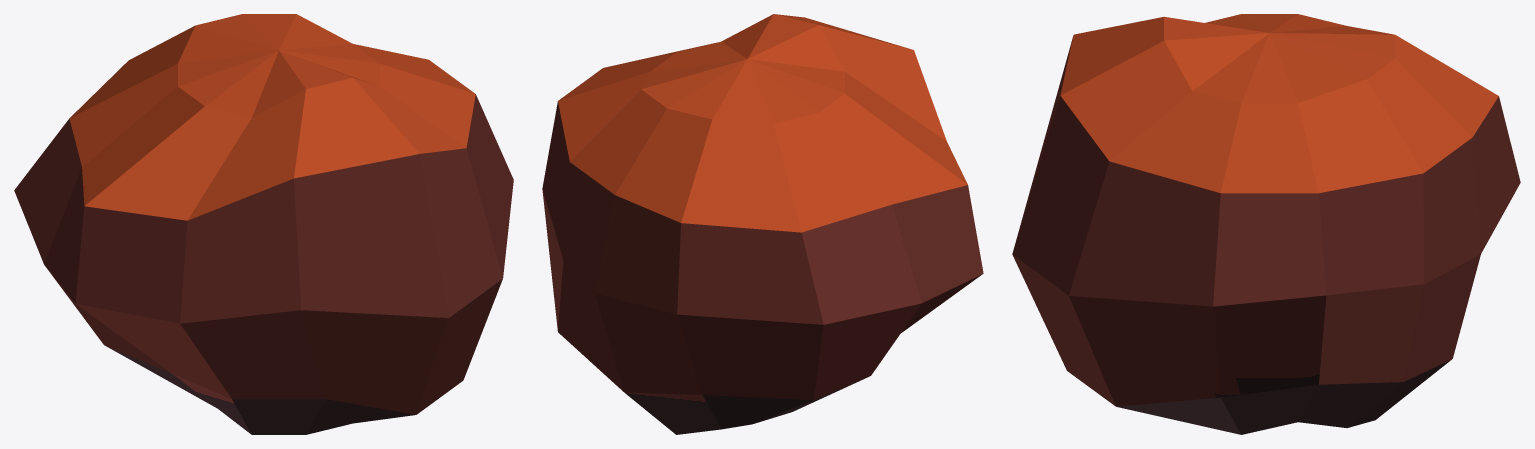
Rendered from Asteroid33.gltf.
The picture shows the model from 3 angles, left to right: view 1: azimuth 30°, elevation 25°; view 2: azimuth 150°, elevation 25°; view 3: azimuth 270°, elevation 25°; orthographic projection. The views are drawn at different scales.
Visible parts, largest first — view 1: sphere; view 2: sphere; view 3: sphere.
Part boxes in pixels (bbox=[...]): sphere: bbox=[14, 14, 513, 434]; sphere: bbox=[542, 14, 983, 434]; sphere: bbox=[1012, 14, 1520, 434].
Size of the model in its own units: 1.23 by 1.01 by 1.2.
1 material, 1 textured.
